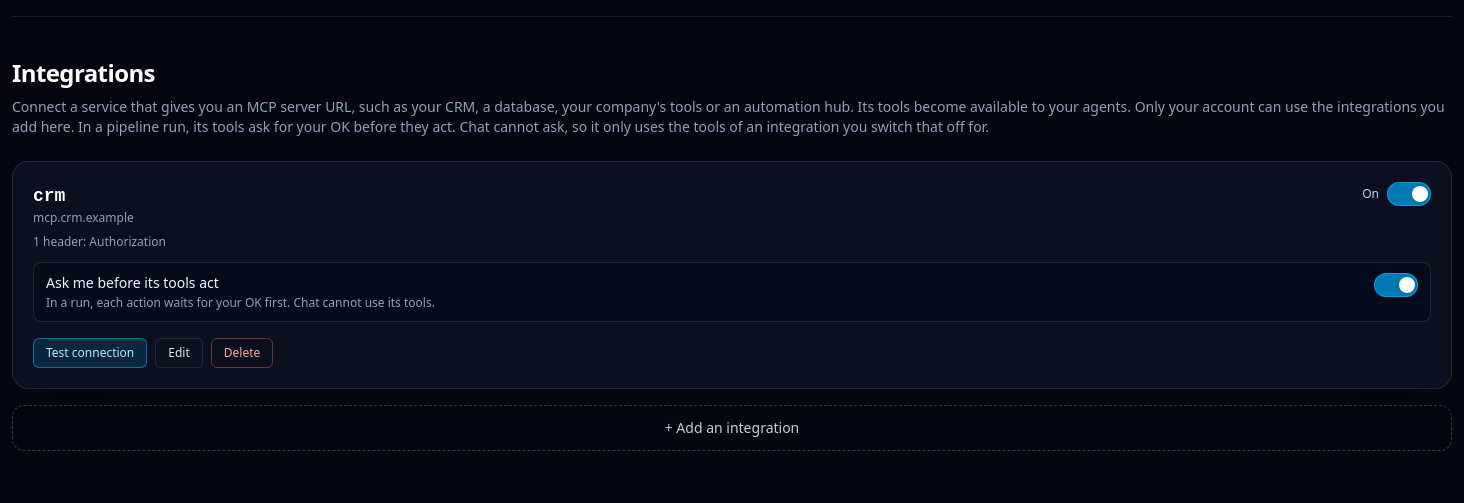
an integration asks before its tools act › says why a change could not be saved and keeps the switch as it was
This screenshot has width=1464, height=503.
Click the switch named "Ask me before its tools act" at (1396, 285), box [1374, 273, 1418, 297]
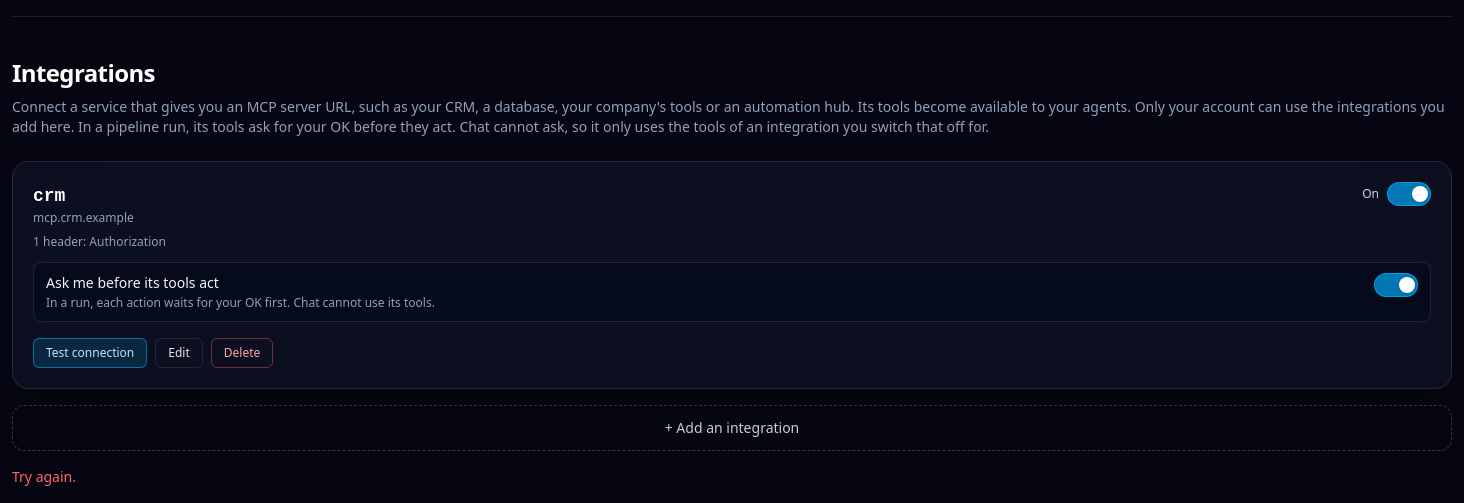
Expected: the message reads "Try again.", [12, 467, 76, 486]
